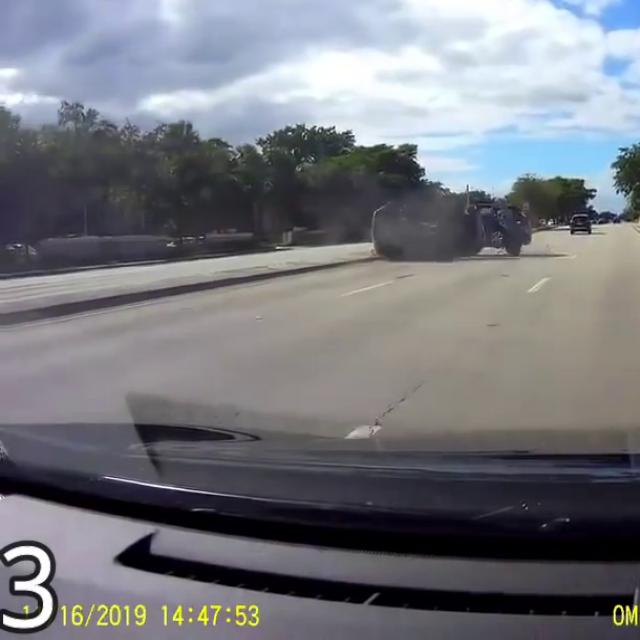accident: (344, 184, 535, 282), (362, 170, 478, 266)
